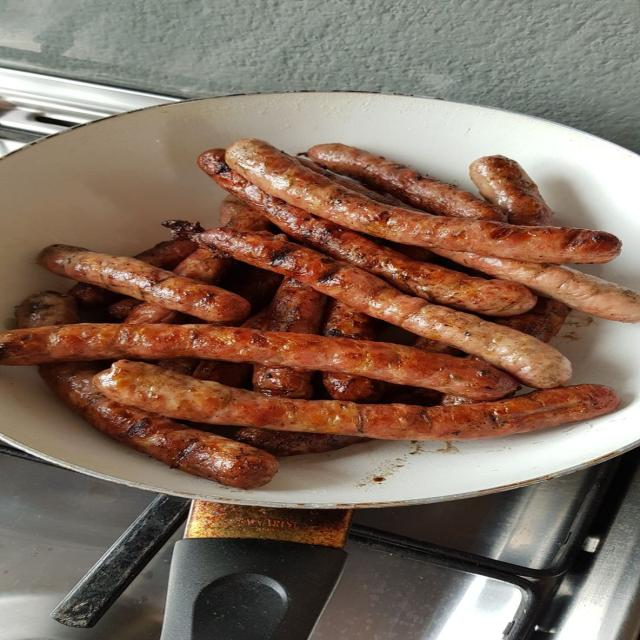sausage: (194, 229, 571, 388), (207, 151, 535, 315), (226, 139, 620, 263), (94, 361, 619, 440), (0, 324, 516, 399), (40, 363, 277, 488), (41, 363, 277, 488), (38, 245, 249, 321), (307, 144, 506, 220), (435, 250, 639, 322), (439, 250, 639, 322), (441, 252, 639, 322), (470, 156, 553, 225), (470, 157, 553, 224), (296, 156, 404, 206), (297, 156, 404, 206), (234, 427, 366, 457), (235, 428, 359, 456), (266, 278, 326, 333), (495, 298, 567, 342), (497, 298, 568, 342), (221, 263, 282, 312), (15, 291, 79, 329), (322, 299, 379, 341), (15, 291, 78, 328), (174, 247, 233, 284), (135, 239, 197, 270), (220, 195, 270, 230), (192, 360, 253, 388), (191, 360, 251, 388), (384, 386, 443, 406), (411, 337, 461, 356), (107, 298, 144, 319), (154, 359, 199, 375)
